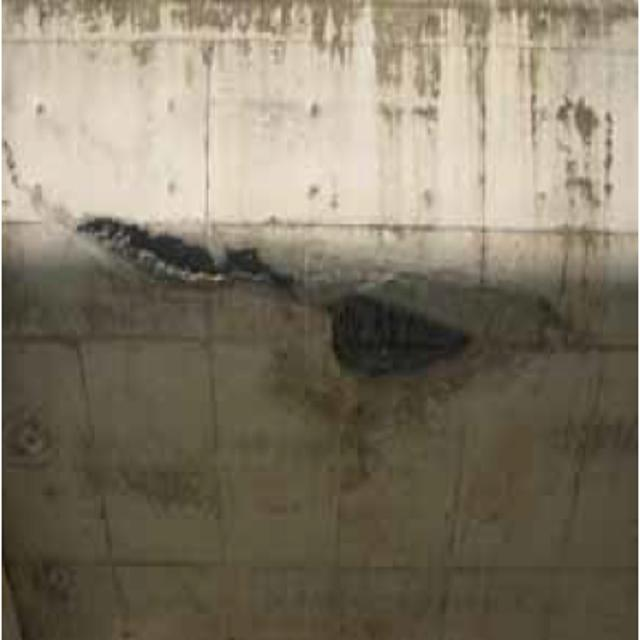spalling: (11, 147, 492, 394)
